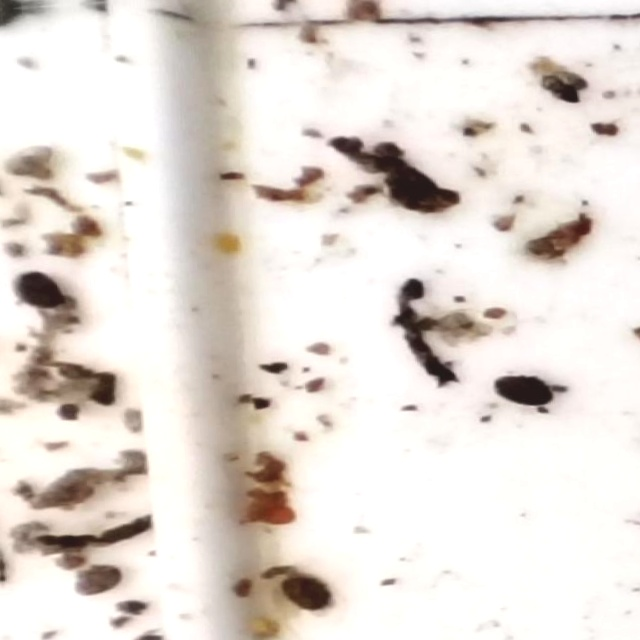varroa: (487, 370, 558, 414), (278, 572, 333, 617), (12, 270, 66, 315)
